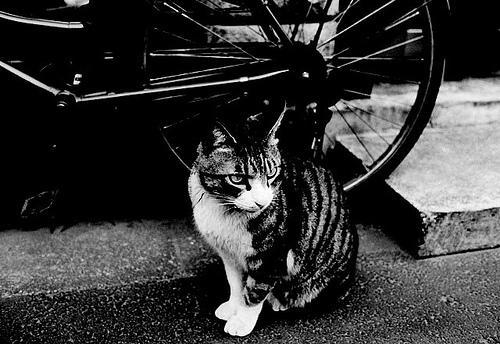bicycle: (0, 1, 451, 208)
